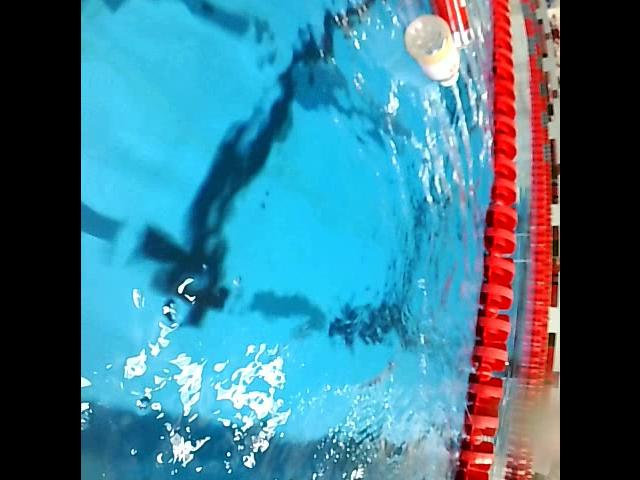Bottle: (401, 11, 468, 100)
Can: (423, 0, 477, 53)
